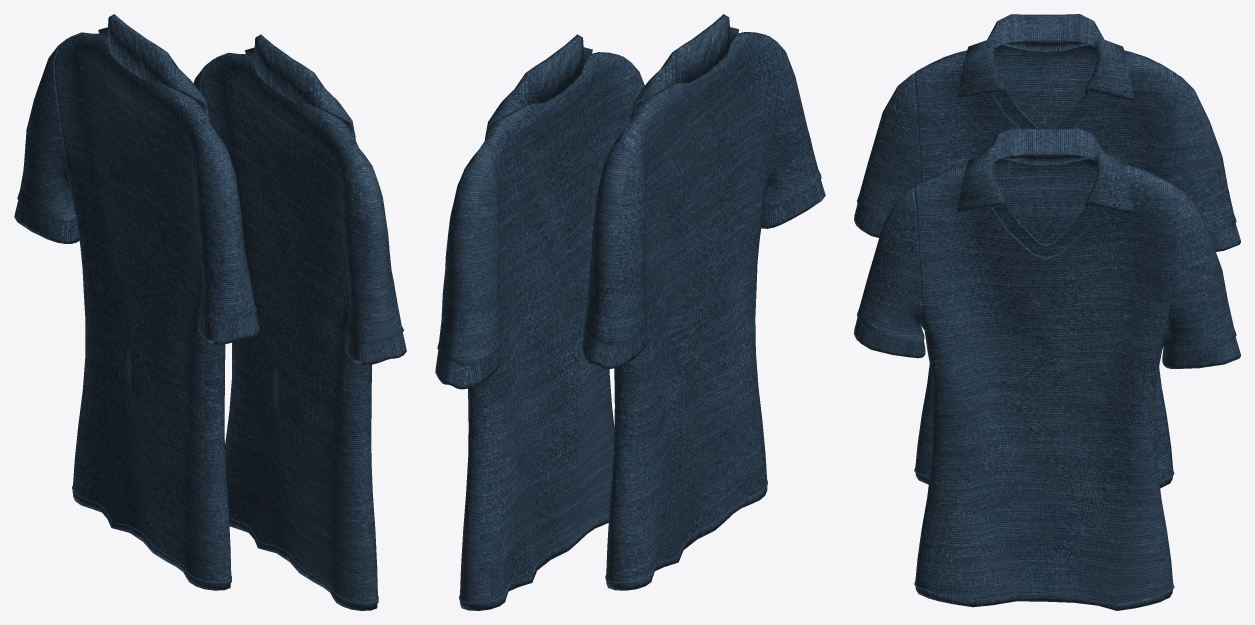
File: yifu12txu_04.fbx
The picture shows the model from 3 angles, left to right: view 1: azimuth 30°, elevation 25°; view 2: azimuth 150°, elevation 25°; view 3: azimuth 270°, elevation 25°; orthographic projection. The views are drawn at different scales.
Visible parts, largest first — view 1: yifu12txu_04; view 2: yifu12txu_04; view 3: yifu12txu_04.
Part boxes in pixels (bbox=[...]): yifu12txu_04: bbox=[14, 14, 406, 610]; yifu12txu_04: bbox=[435, 14, 825, 610]; yifu12txu_04: bbox=[854, 14, 1240, 610].
Bounding box in the file's own units: 35.35 × 89.46 × 61.31.
